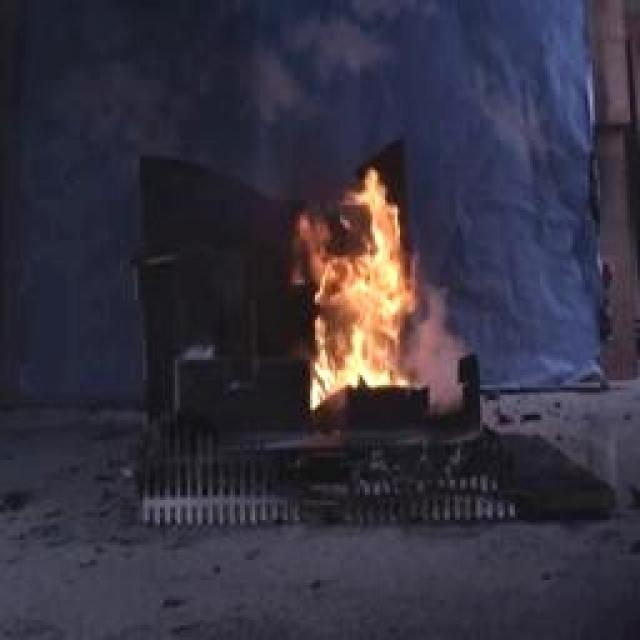fire: (290, 163, 435, 425)
